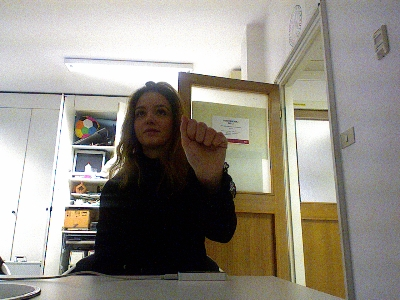石头: (178, 113, 227, 178)
